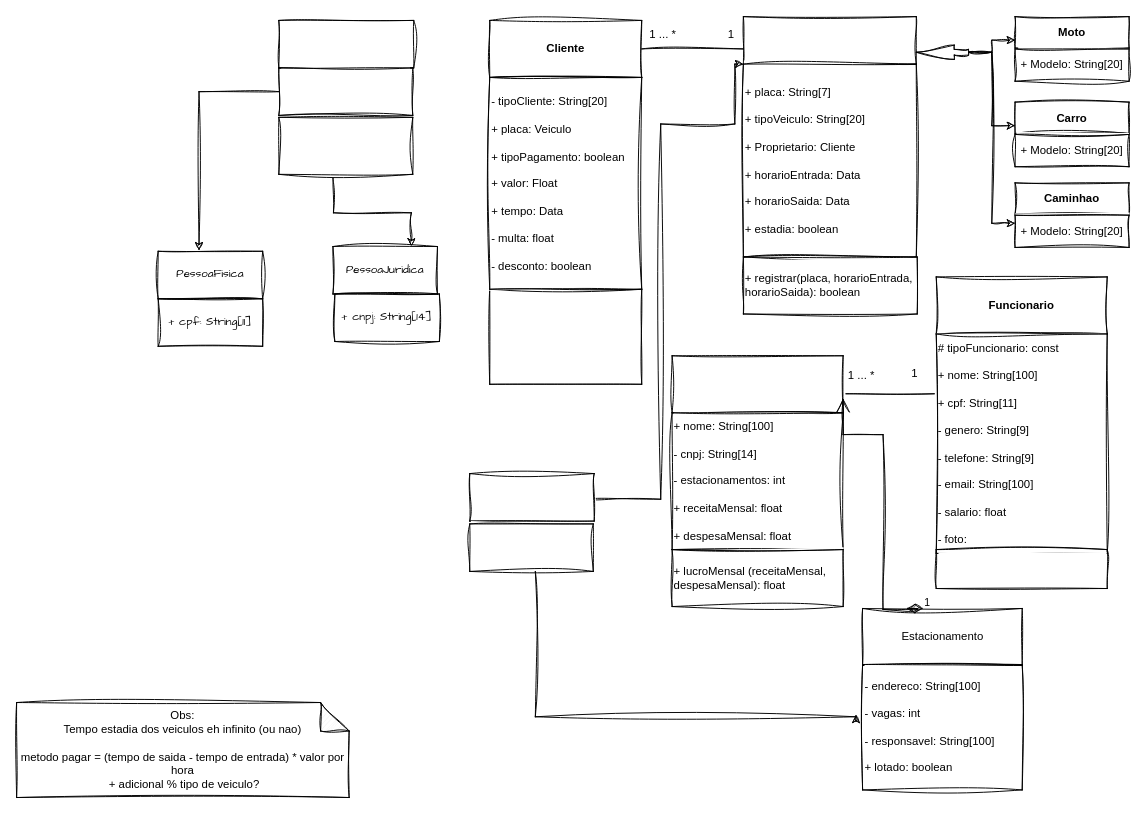
Some shapes in this 1146 by 814 pixel diagram are drawn without their labels. Here are the shapes that lost their labels. From the top down, the centre of each, then its label:
the point at 346,43: Pessoa
the point at 829,40: Veiculo
the point at 345,91: - nome: String[100] - telefone: String[9]
the point at 345,145: - cadastrarPessoa(nome, telefone)
the point at 565,336: + pagar(horarioEntrada, horSaida): float + cadastrar(tipo, placa)
the point at 757,384: Empresa
the point at 531,497: Estadia
the point at 531,547: + veiculo: Veiculo + valorHora: const
